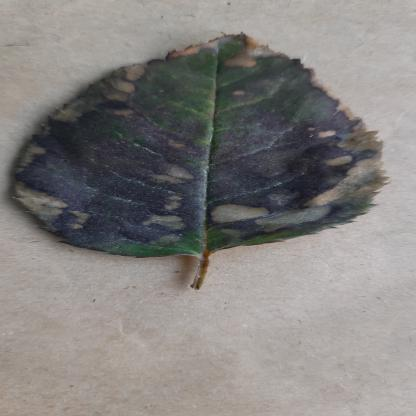powdery-mildew: (4, 31, 394, 261)
